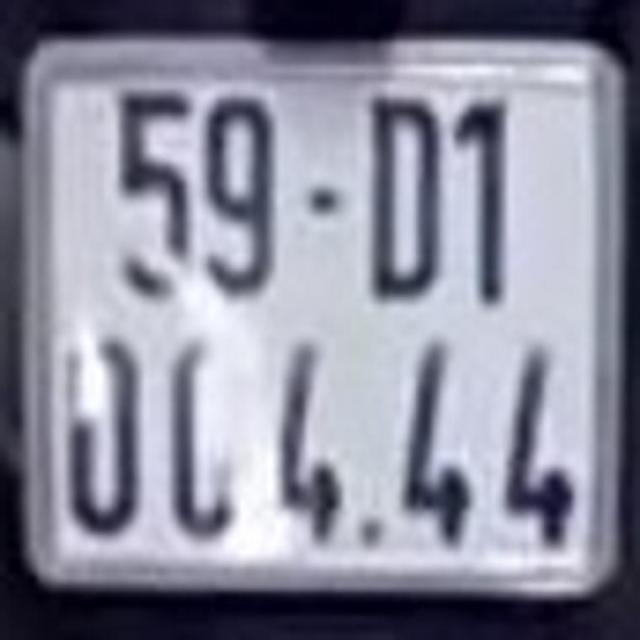0: (71, 344, 140, 532), (180, 330, 239, 540)
1: (454, 100, 511, 300)
4: (276, 338, 344, 545), (408, 342, 468, 548), (510, 343, 573, 539)
5: (113, 88, 187, 306)
9: (207, 100, 274, 298)
D: (369, 95, 436, 308)
